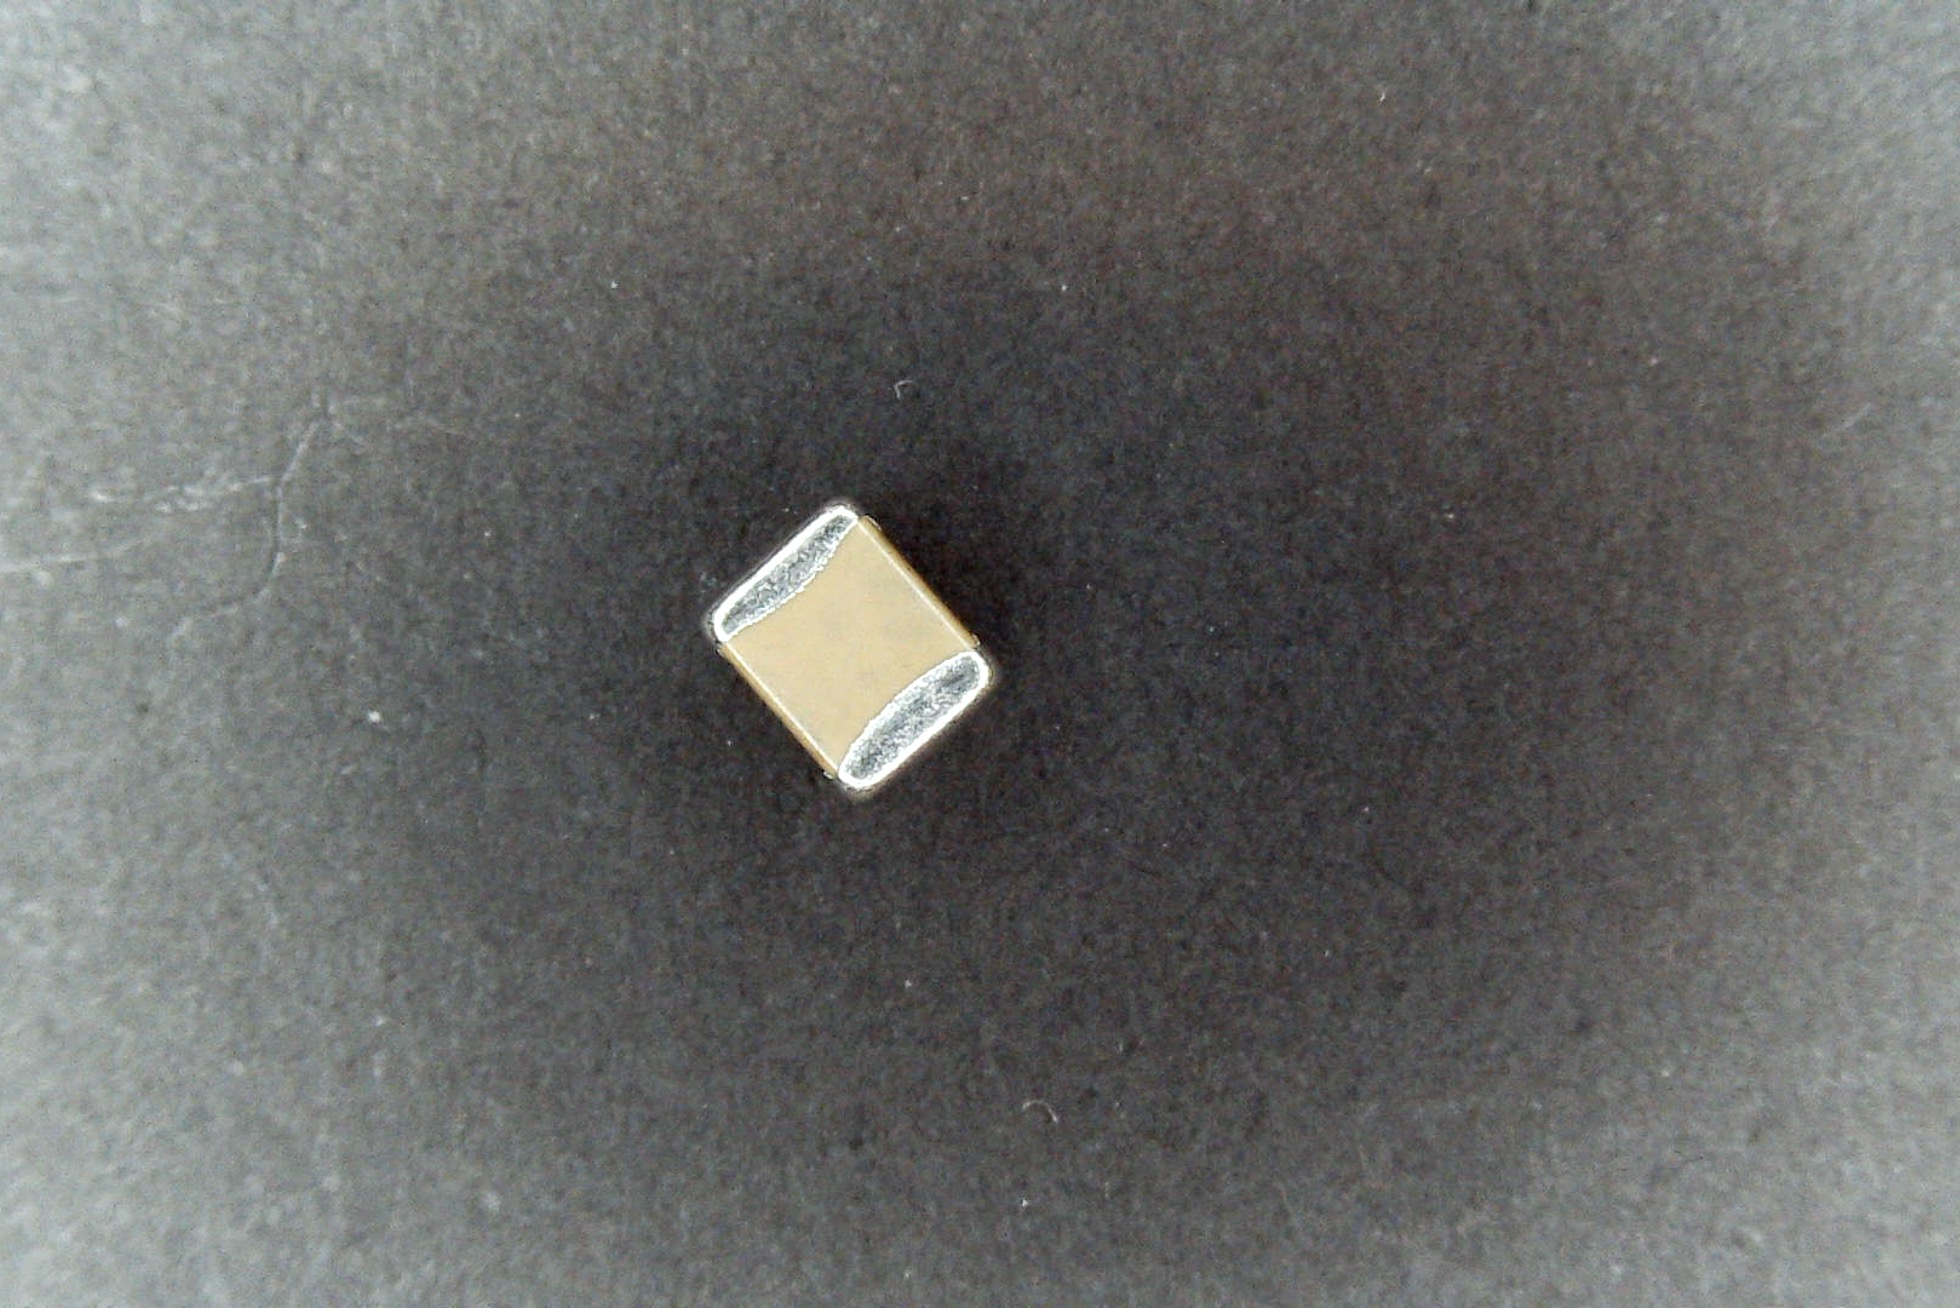bbox: (698, 498, 1003, 807)
